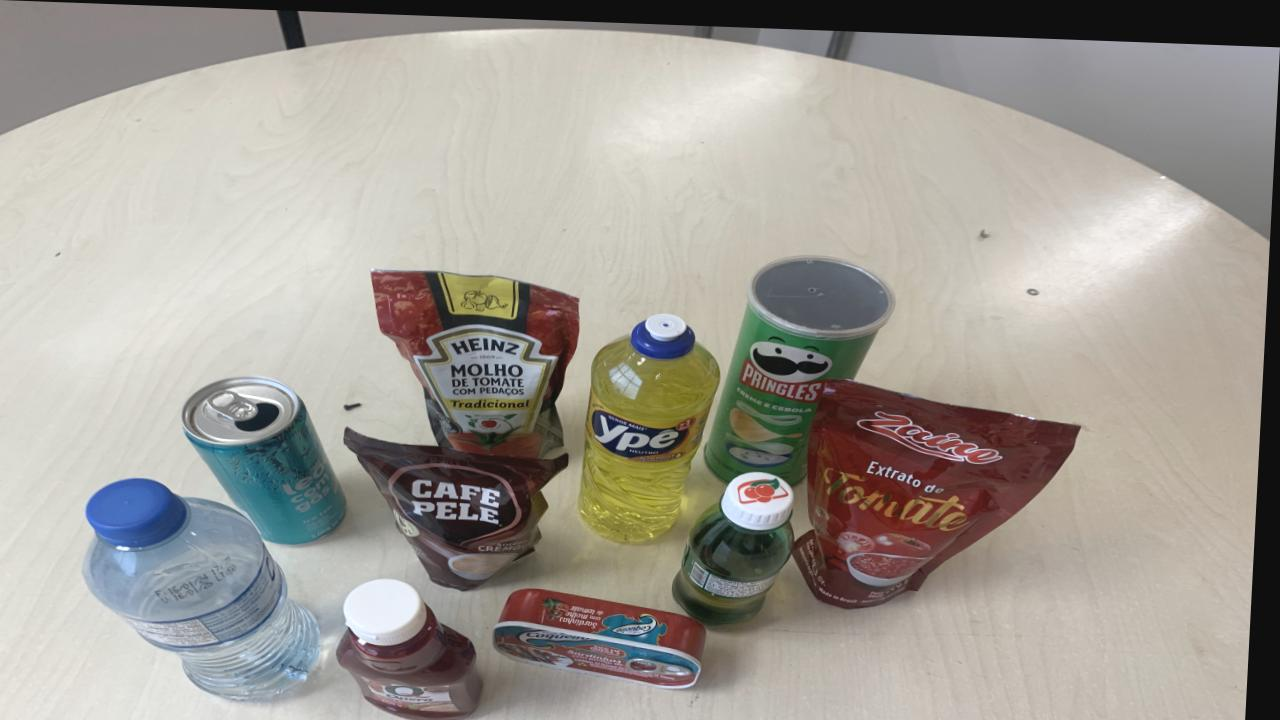Coffee-Pantry_Items: (348, 425, 575, 586)
Detergent-Cleanup_Items: (583, 308, 724, 537)
Guarana-Drinks: (679, 465, 799, 618)
Ketchup-Pantry_Items: (344, 576, 490, 717)
Pringles-Snacks: (710, 249, 899, 476)
Tea-Drinks: (186, 375, 352, 542)
Tomato_Sauce-Pantry_Items: (799, 373, 1084, 601), (374, 266, 583, 453)
Tuna_Can-Pantry_Items: (500, 584, 713, 684)
Water_Bottle-Drinks: (89, 477, 327, 698)
